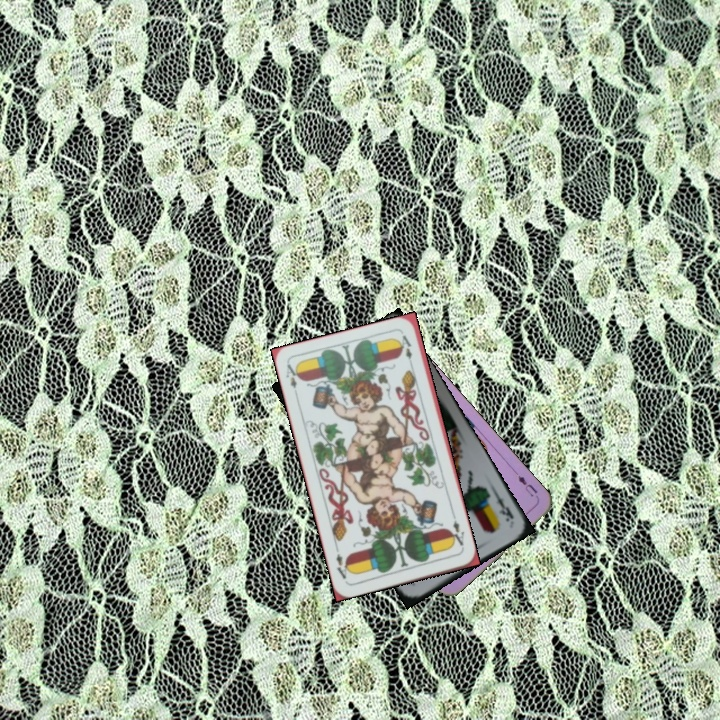EA: (446, 512, 467, 552), (282, 360, 302, 400)
EK: (490, 488, 516, 524)
EU: (511, 468, 541, 501)
